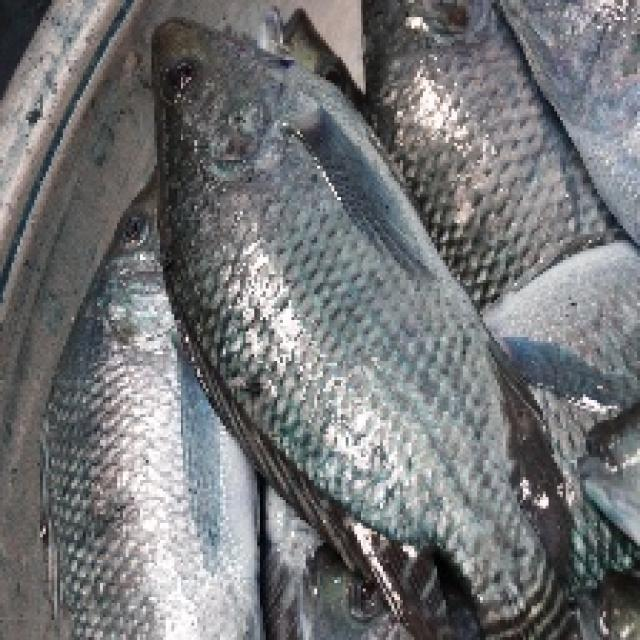Fresh: (163, 41, 508, 550)
